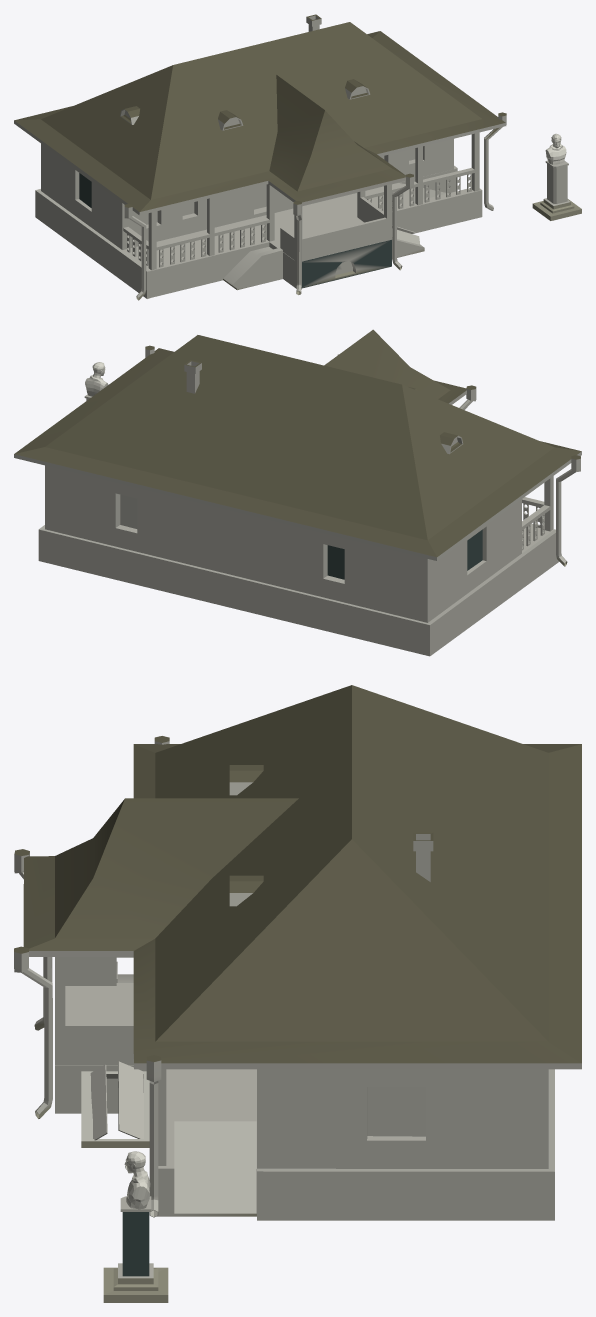
3 renders of one model, top to bottom at view 1: azimuth 30°, elevation 25°; view 2: azimuth 150°, elevation 25°; view 3: azimuth 270°, elevation 25°, orthographic. The views are drawn at different scales.
Parts seen in each view (by area): view 1: polySurface1:PIV; view 2: polySurface1:PIV; view 3: polySurface1:PIV.
Part boxes in pixels (x1=…): polySurface1:PIV: x1=14, y1=14, x2=581, y2=300; polySurface1:PIV: x1=14, y1=329, x2=581, y2=656; polySurface1:PIV: x1=14, y1=685, x2=581, y2=1302.
Size of the model in its own units: 11.14 by 4.36 by 6.96.
